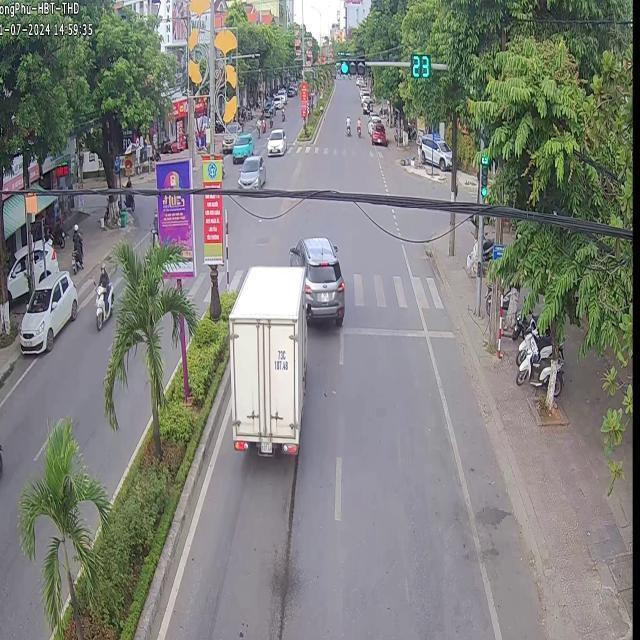car: (228, 265, 304, 454), (288, 236, 343, 325), (18, 269, 76, 351), (236, 154, 264, 187), (266, 127, 286, 154)
green_light: (478, 155, 490, 198), (411, 53, 430, 77), (340, 58, 365, 73)
motobike: (94, 280, 112, 318)
stop_line: (342, 325, 422, 336)
